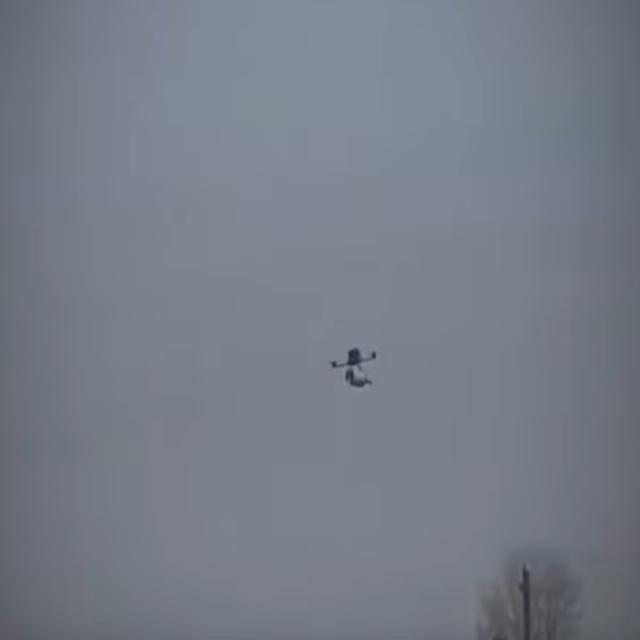drone: (328, 344, 382, 389)
